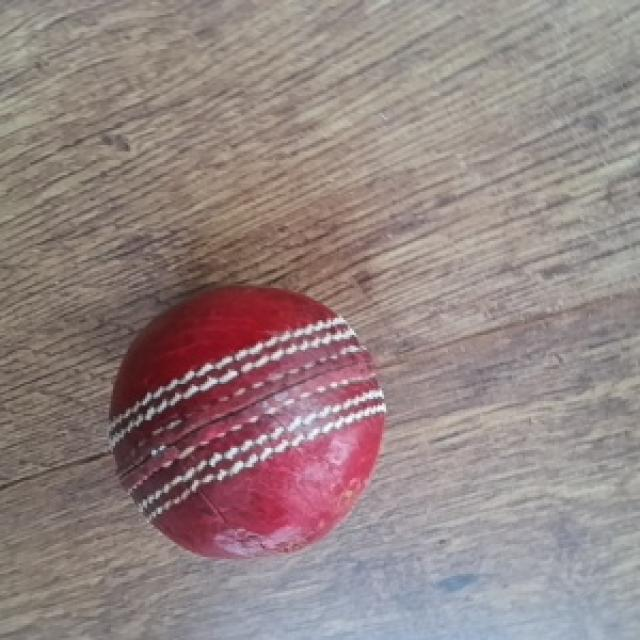ball: (112, 290, 391, 565)
